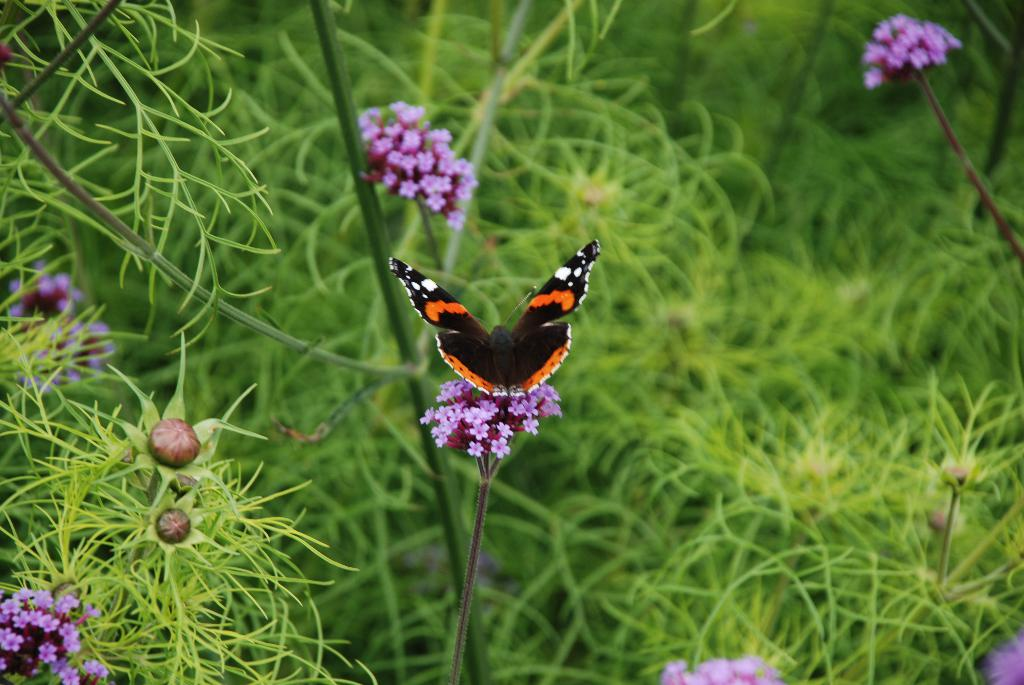Butterfly: (381, 236, 597, 415)
